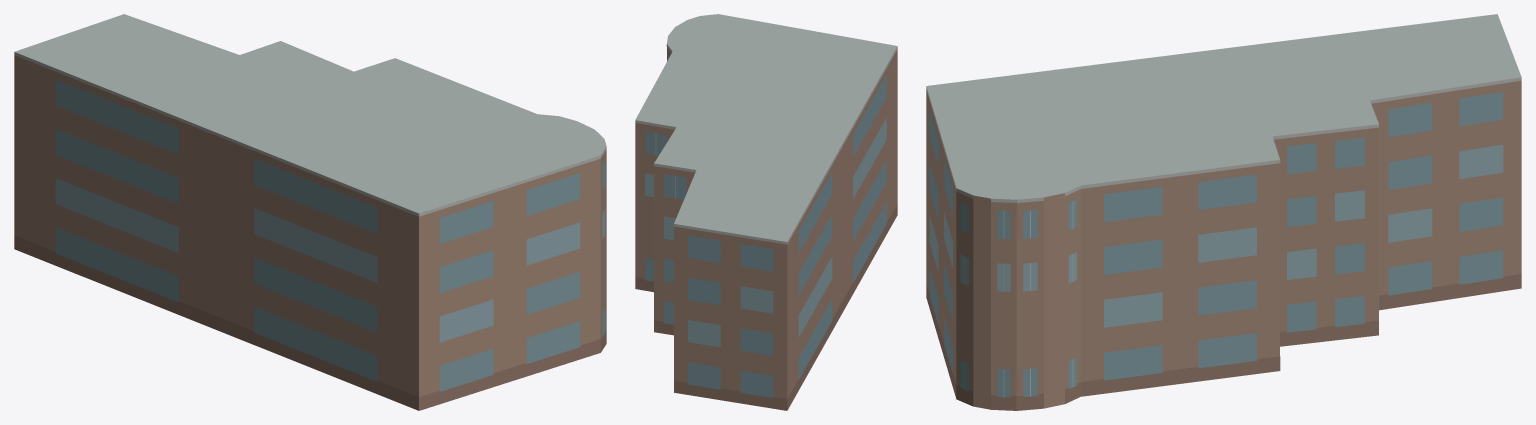
Rendered from survey-upis-32475277.glb.
3 renders of one model, left to right at view 1: azimuth 30°, elevation 25°; view 2: azimuth 150°, elevation 25°; view 3: azimuth 270°, elevation 25°, orthographic. The views are drawn at different scales.
Visible parts, largest first — view 1: survey-upis-32475277.tmp; view 2: survey-upis-32475277.tmp; view 3: survey-upis-32475277.tmp.
Boxes of the visible parts, x1=… form: survey-upis-32475277.tmp: x1=14, y1=14, x2=606, y2=410; survey-upis-32475277.tmp: x1=635, y1=14, x2=897, y2=410; survey-upis-32475277.tmp: x1=926, y1=14, x2=1521, y2=410.
Bounding box in the file's own units: 29.07 × 15.4 × 39.37.
